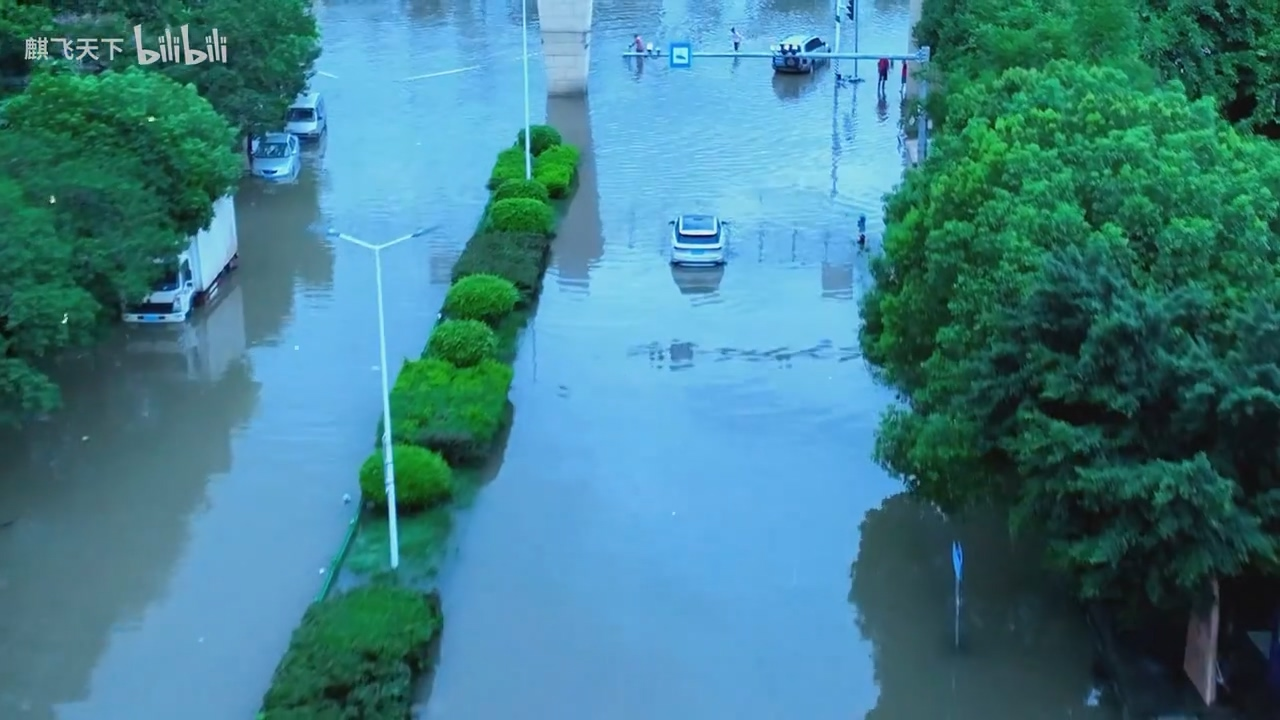puddle: (513, 198, 955, 712), (87, 202, 331, 720)
